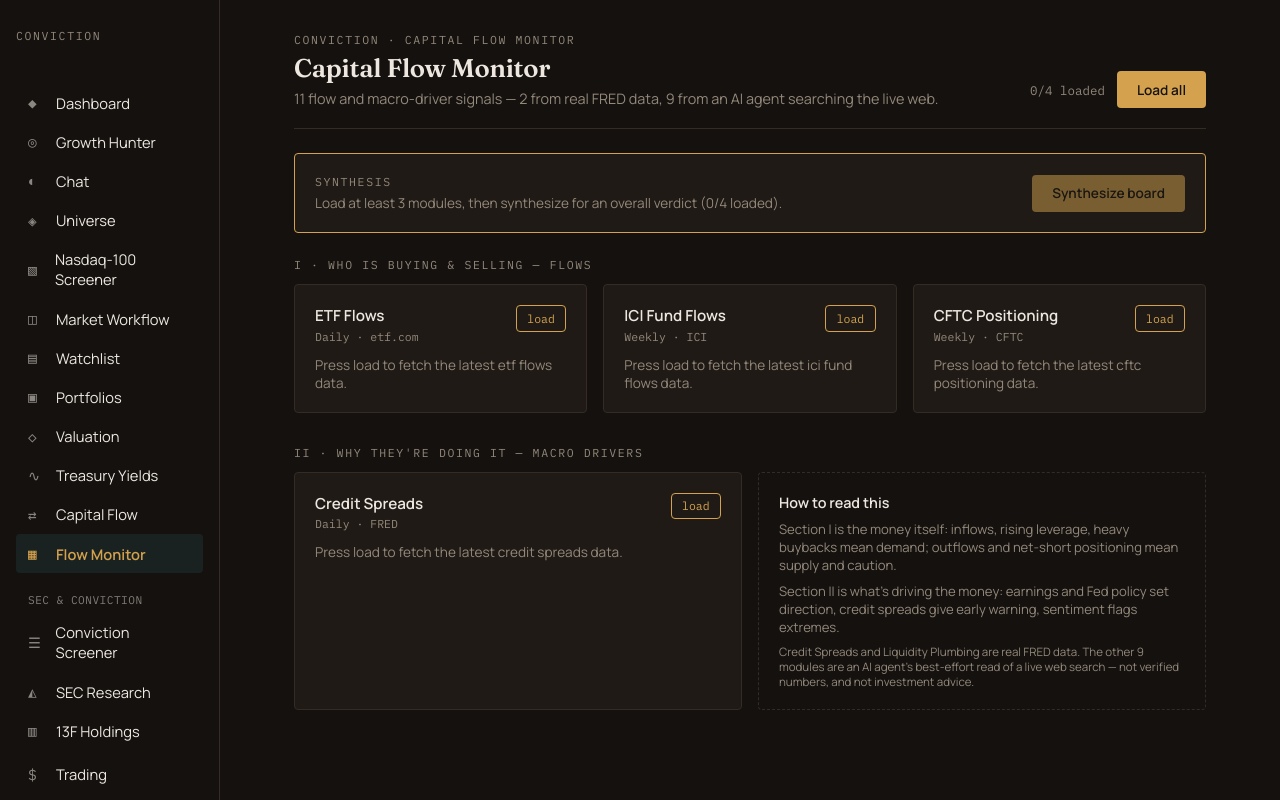
Test: Capital Flow Monitor page › distinguishes a real FRED module from an AI web-search estimate
The image size is (1280, 800).
expect the text "Credit Spreads" is shown: met, box [315,493,423,514]
Load the credit module specifically (4th card, "credit" is last in SAMPLE_MODULES).
Step 1. Click the button "load" next to "How to read this" → [696, 506], box [671,493,721,519]
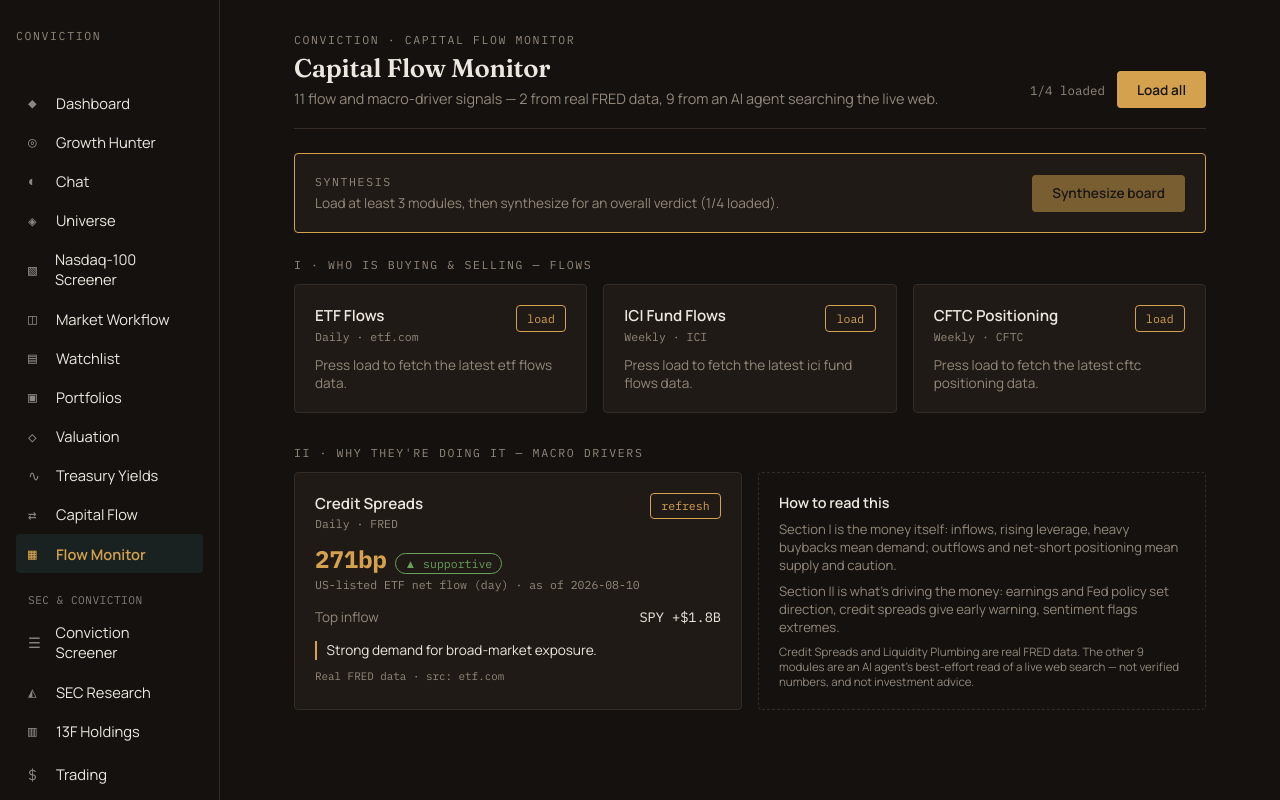
expect the text "Real FRED data · src: etf.com" is shown: met, box [315,669,504,683]
